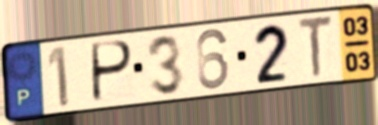1: (46, 43, 71, 111)
2: (249, 19, 293, 89)
3: (145, 32, 186, 98)
6: (194, 27, 231, 93)
P: (89, 38, 136, 105)
T: (296, 12, 335, 82)
